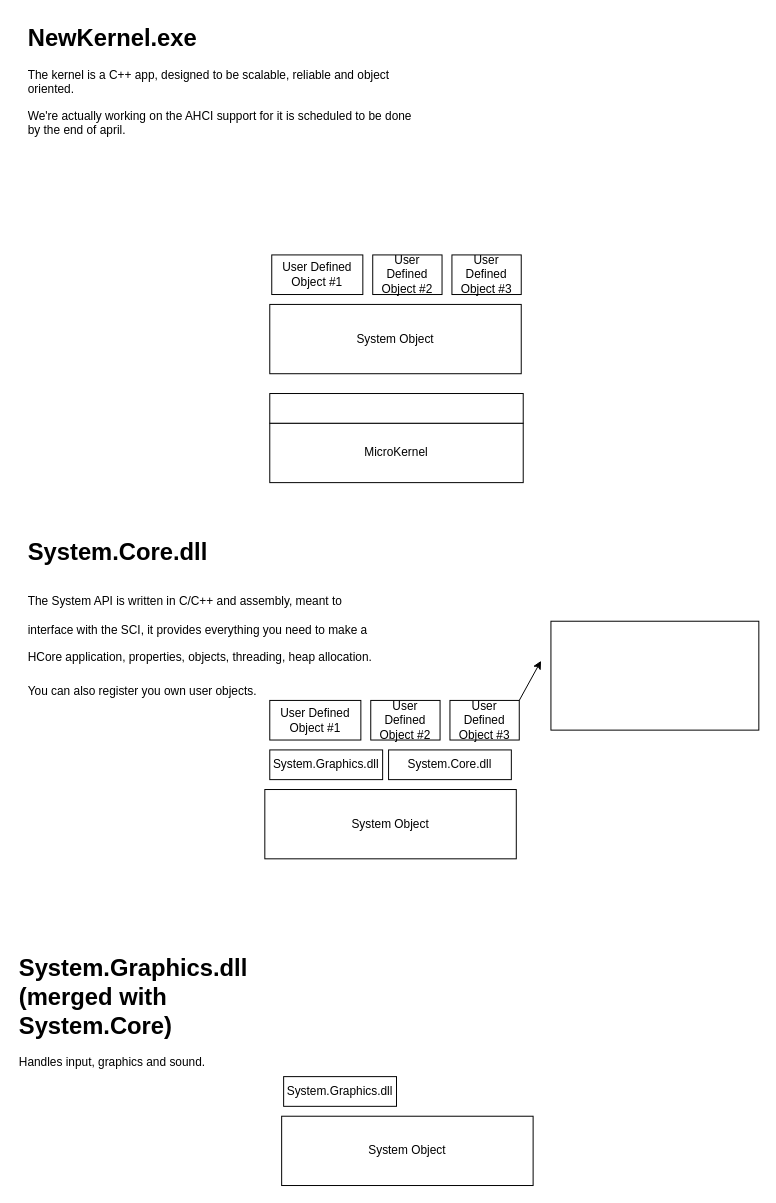
The diagram is 776 pixels wide and 1203 high, and some of its shapes have lost their labels. Each missing label, with the centre of its shape:
"/Manifest.xml /HCore/ - Library.lib/Dll.dll (Subsystem 17) /Resources/" goes at (654,675).
"System Call Interface" goes at (396,408).
